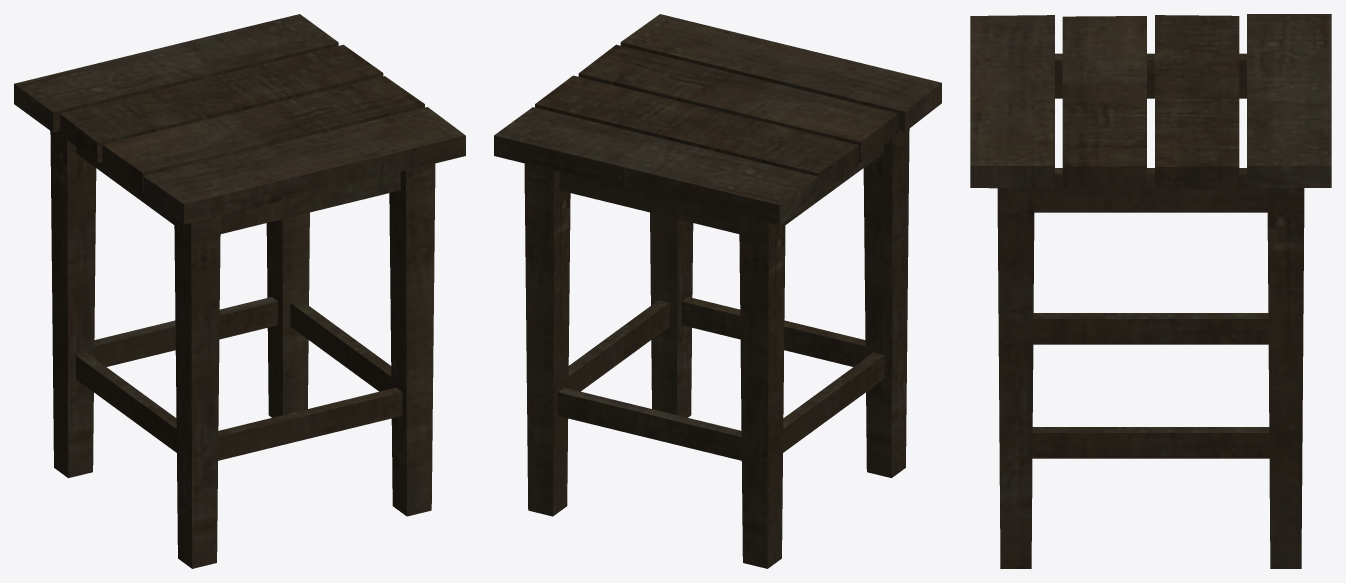
The model's file is chair_mp_1_4.obj.
3 views of the same model, side by side, from view 1: azimuth 30°, elevation 25°; view 2: azimuth 150°, elevation 25°; view 3: azimuth 270°, elevation 25° (orthographic). The views are drawn at different scales.
Visible parts, largest first — view 1: chair_mp_1_4; view 2: chair_mp_1_4; view 3: chair_mp_1_4.
Part boxes in pixels (left/top/right/bottom): chair_mp_1_4: left=14, top=14, right=465, bottom=568; chair_mp_1_4: left=494, top=14, right=941, bottom=568; chair_mp_1_4: left=970, top=14, right=1331, bottom=568.
Size of the model in its own units: 0.4707 by 0.594 by 0.47.
